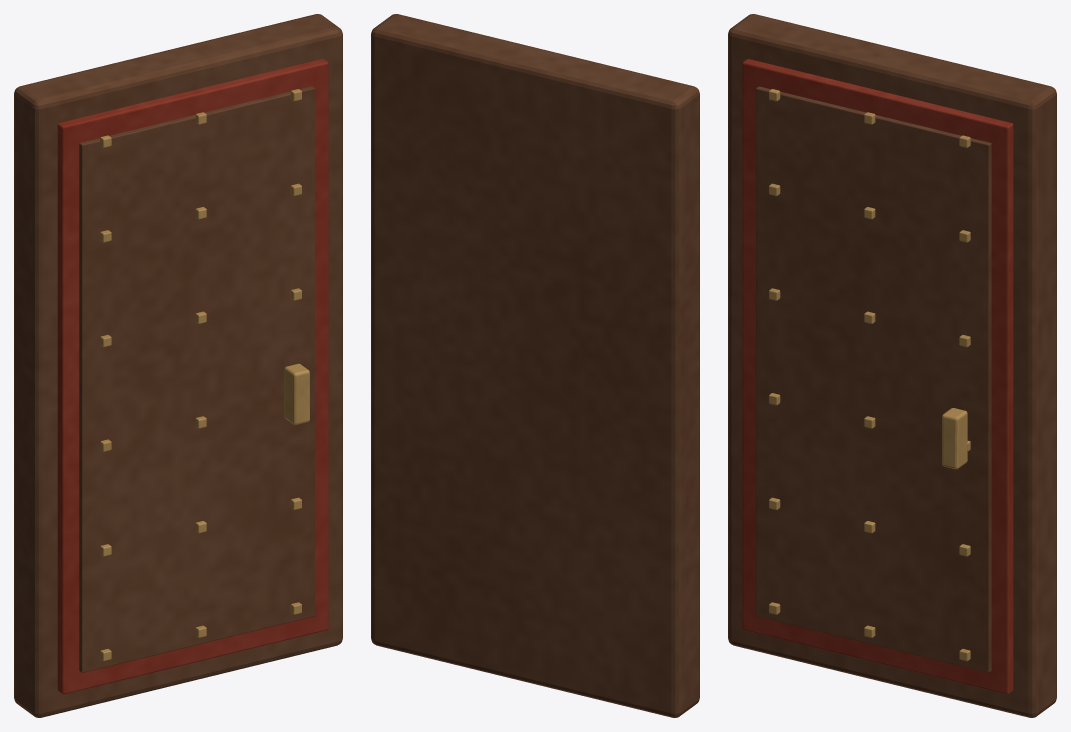
Rendered from mountain-gate-left.glb.
The picture shows the model from 3 angles, left to right: view 1: azimuth 30°, elevation 25°; view 2: azimuth 150°, elevation 25°; view 3: azimuth 330°, elevation 25°; orthographic projection.
Parts seen in each view (by area): view 1: DoorLeft; view 2: DoorLeft; view 3: DoorLeft.
Part boxes in pixels (x1=…): DoorLeft: x1=14, y1=14, x2=342, y2=717; DoorLeft: x1=371, y1=14, x2=699, y2=717; DoorLeft: x1=728, y1=14, x2=1056, y2=717.
Size of the model in its own units: 1.3 by 2.48 by 0.335.
3 materials, 3 textured.
